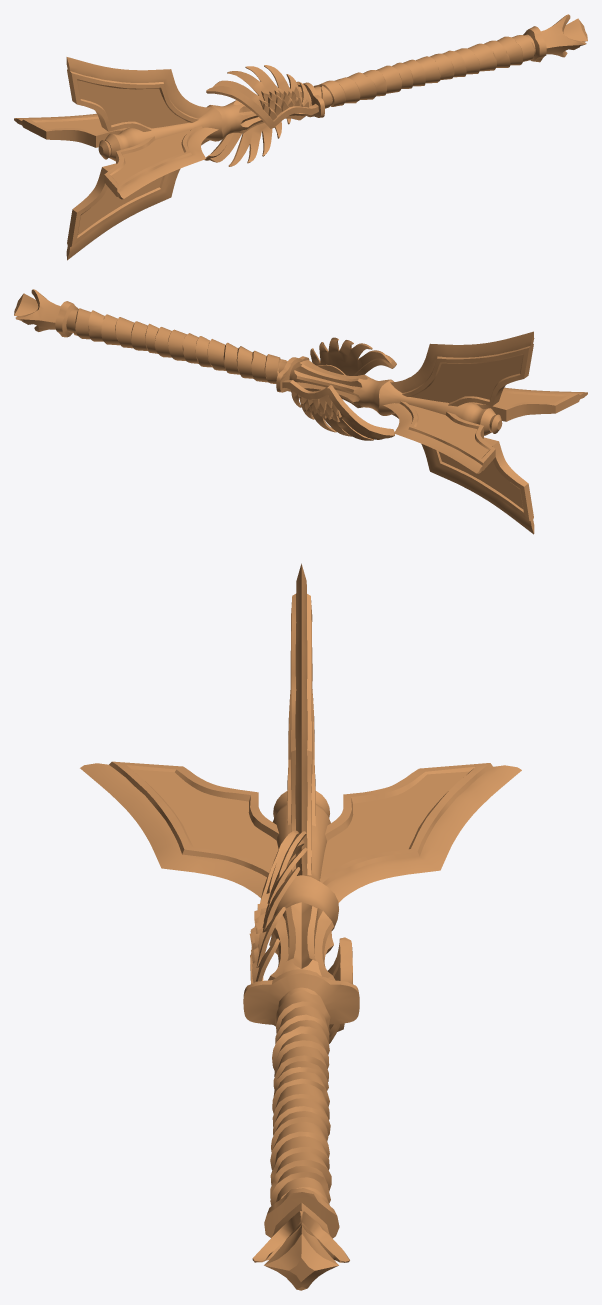
The model's file is SM_Rune_Mace_1.fbx.
The picture shows the model from 3 angles, top to bottom: view 1: azimuth 30°, elevation 25°; view 2: azimuth 150°, elevation 25°; view 3: azimuth 270°, elevation 25°; orthographic projection. The views are drawn at different scales.
Visible parts, largest first — view 1: SM_Rune_Mace_1; view 2: SM_Rune_Mace_1; view 3: SM_Rune_Mace_1.
Part boxes in pixels (x1,y1,x2,y2): SM_Rune_Mace_1: (14, 14, 587, 260); SM_Rune_Mace_1: (14, 289, 587, 534); SM_Rune_Mace_1: (80, 563, 521, 1290).
Bounding box in the file's own units: 1.05 × 0.3958 × 0.3901.
